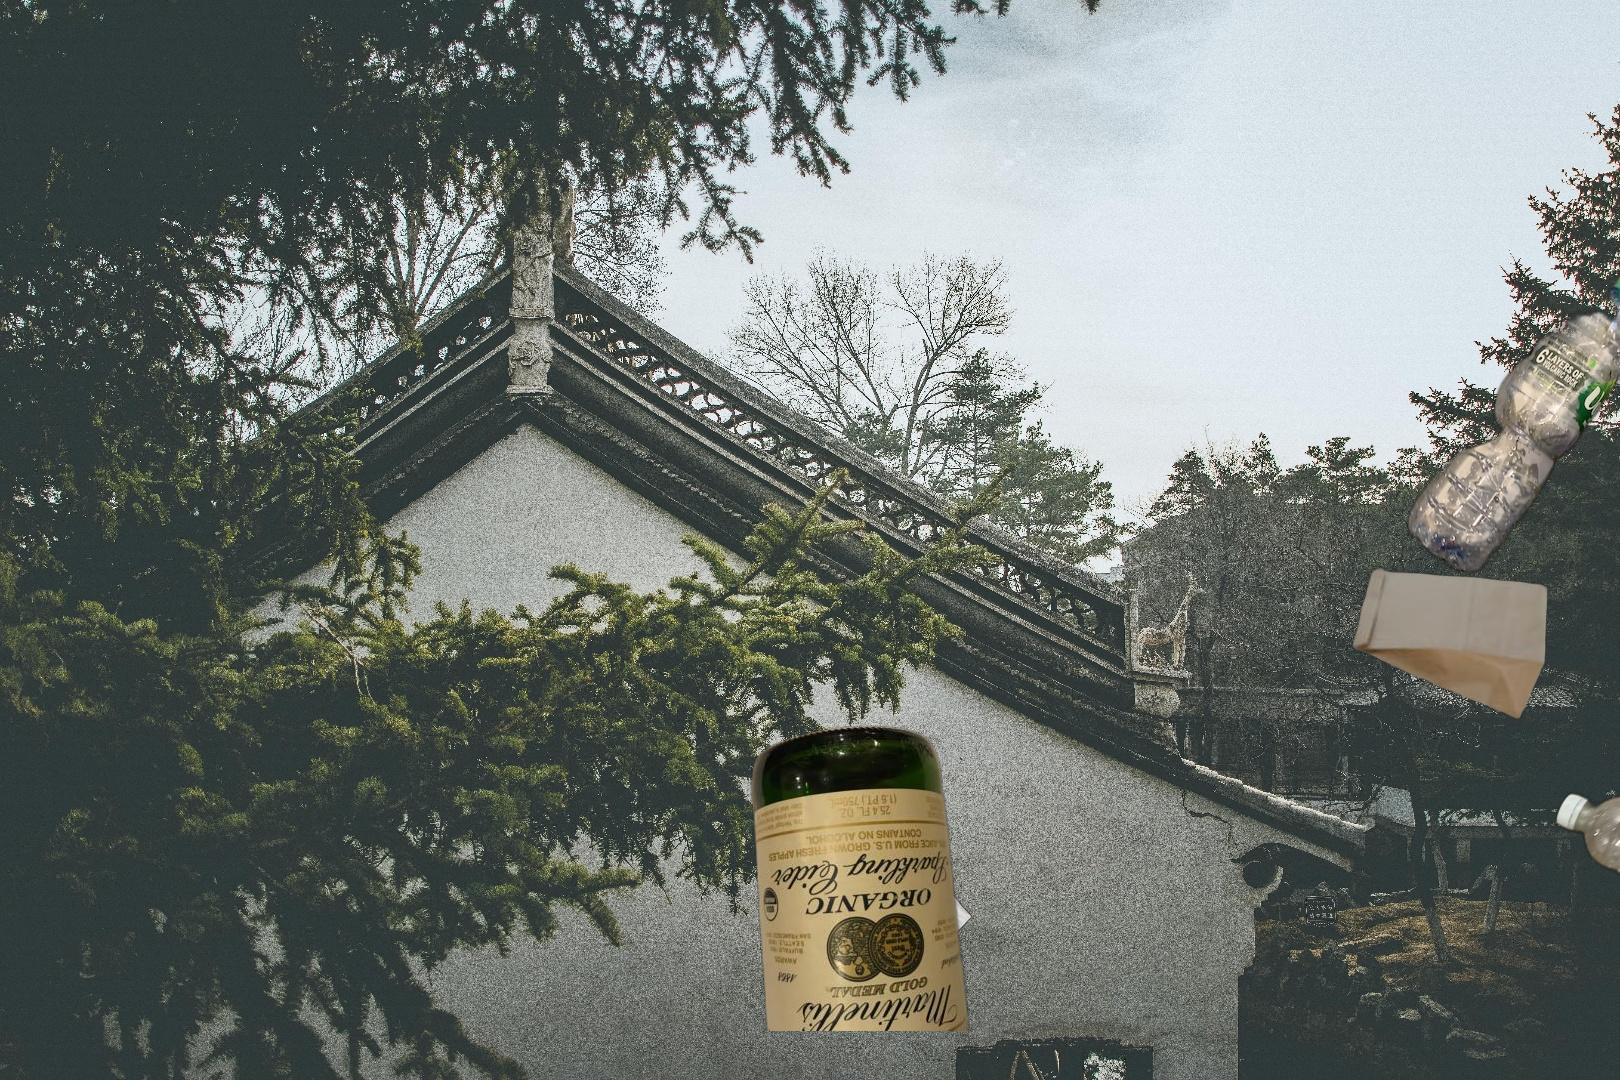glass: (746, 722, 978, 1031)
paper-bag: (1349, 565, 1550, 721)
plastic-bag: (833, 834, 975, 976)
plastic-bottles: (1402, 266, 1620, 771), (1551, 787, 1620, 1080)
